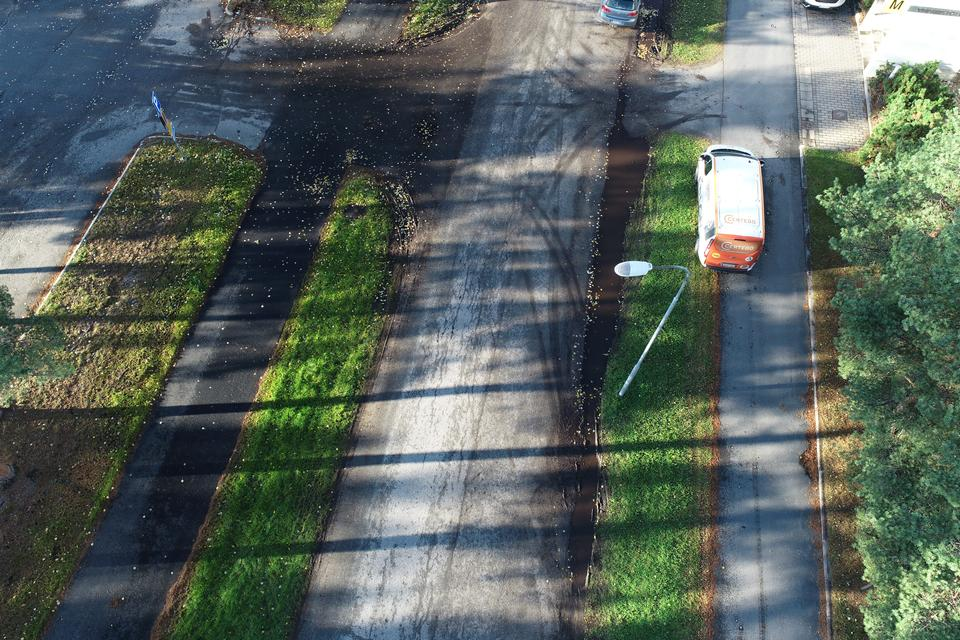intersection: (127, 0, 733, 219)
